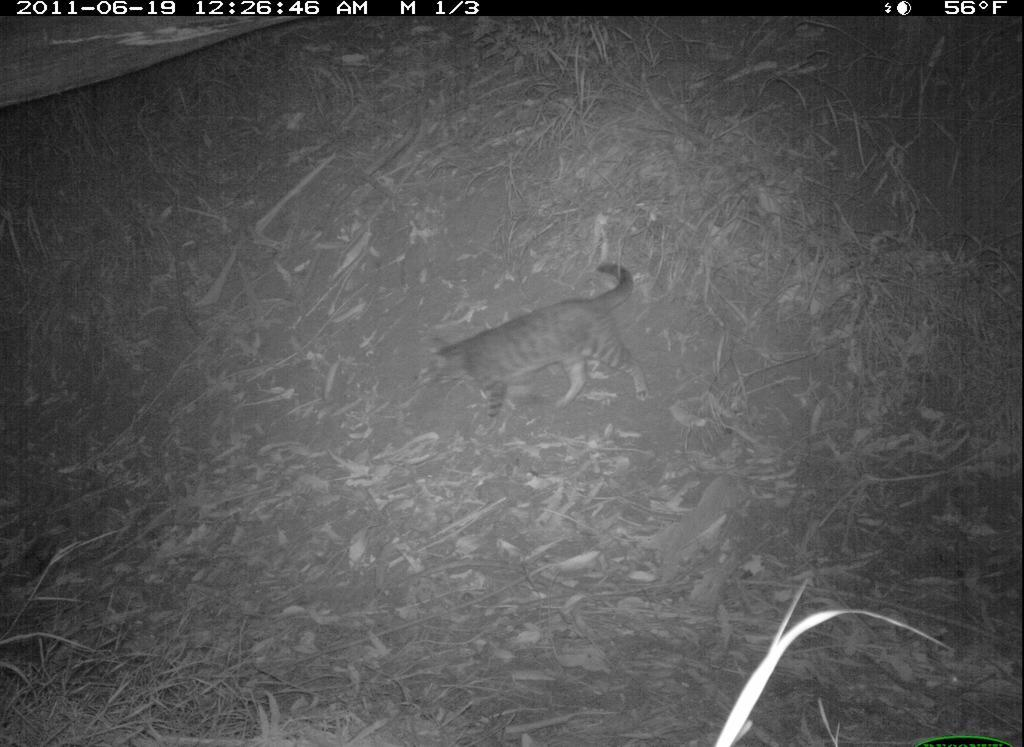cat: (425, 247, 674, 439)
